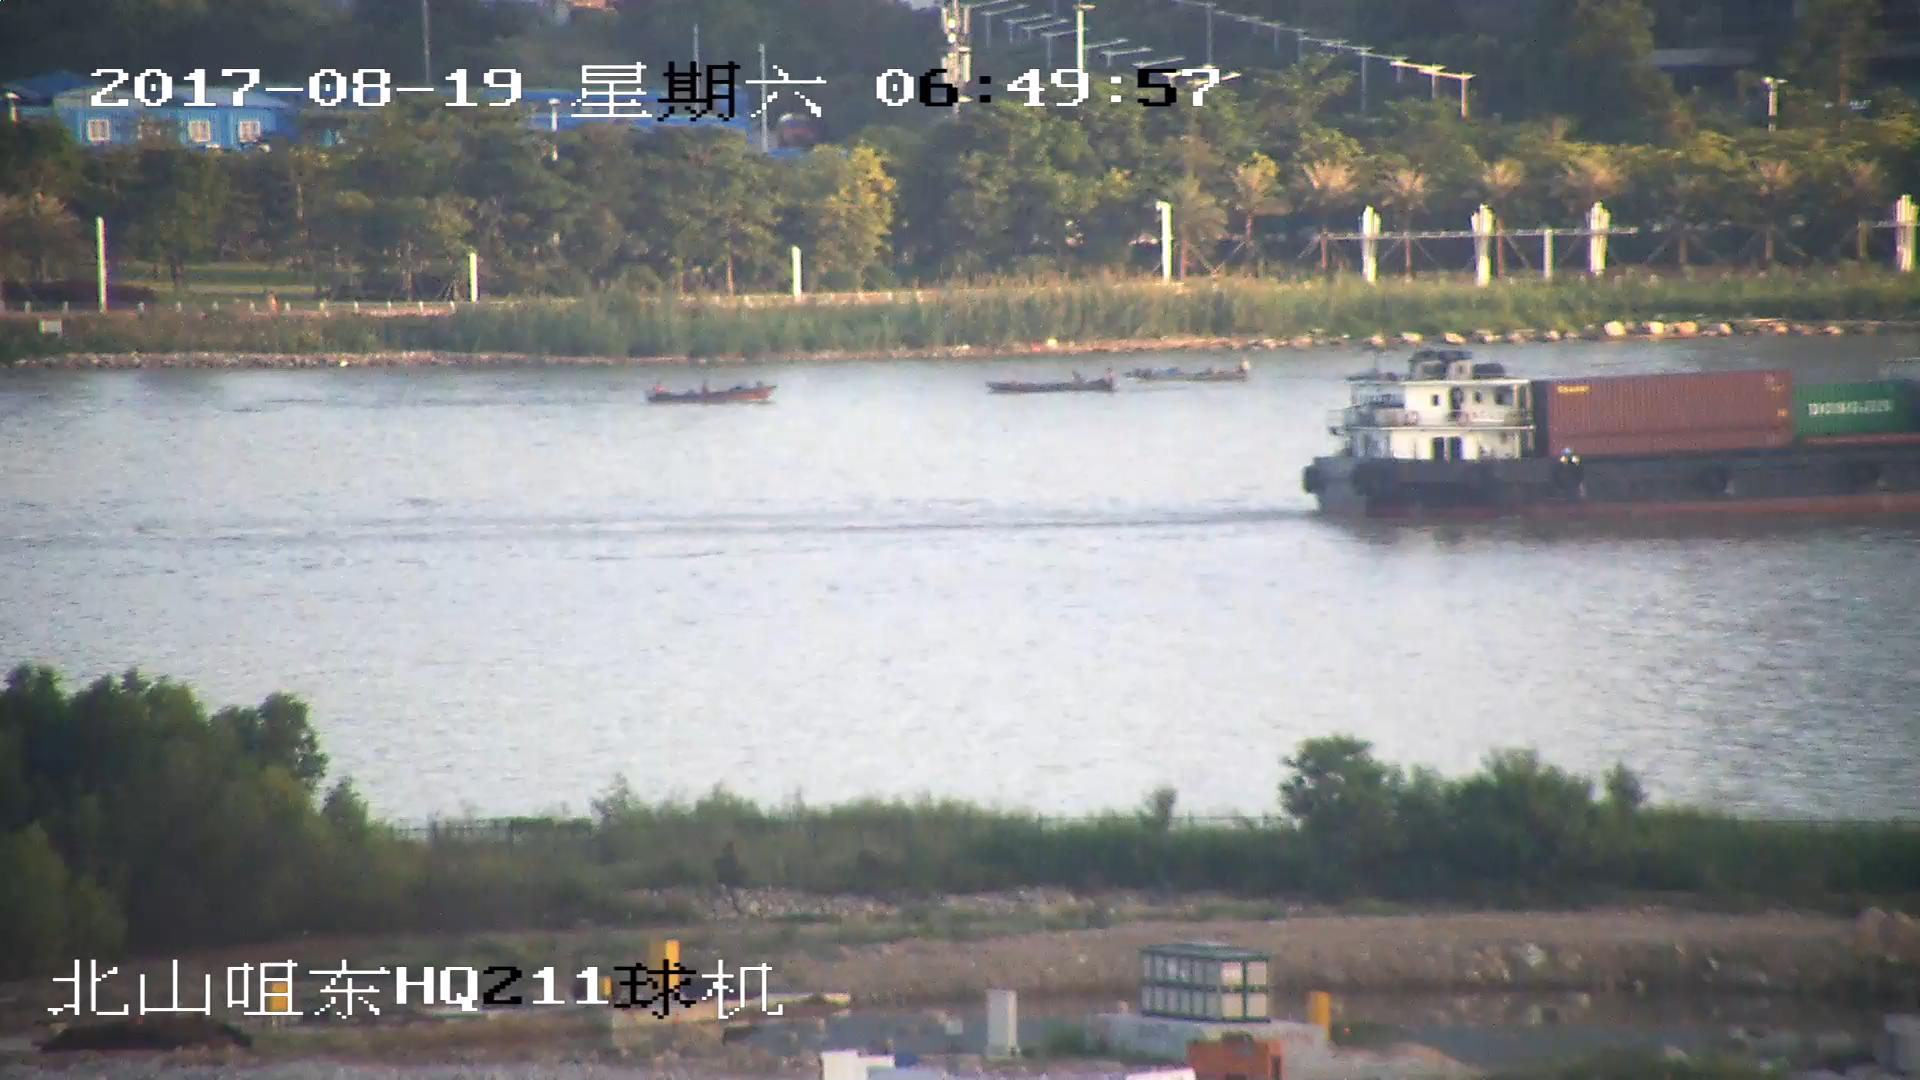container ship: (1288, 352, 1920, 526)
fishing boat: (982, 363, 1118, 401), (646, 378, 778, 409), (1125, 360, 1257, 388)
